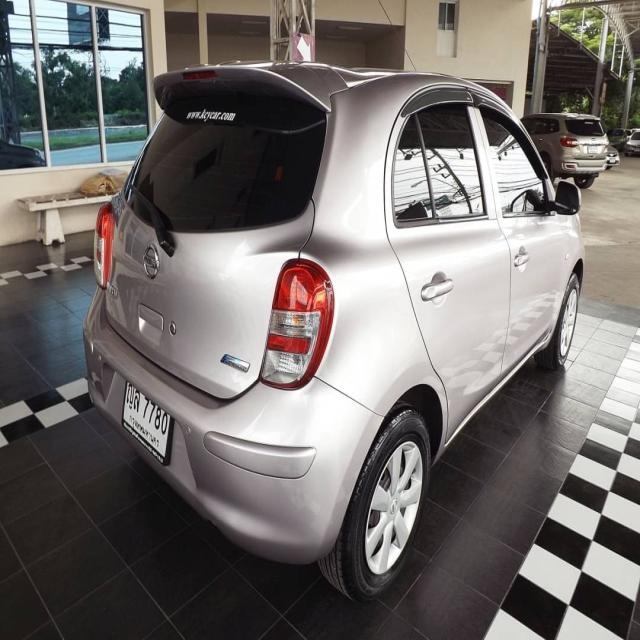license_plate: (110, 365, 188, 480)
